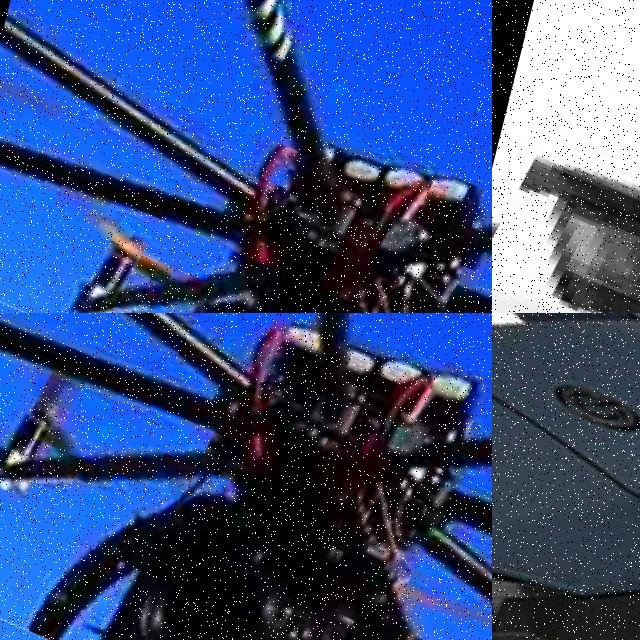drone: (0, 313, 492, 640), (0, 0, 492, 313), (492, 313, 640, 640), (492, 112, 640, 313)
